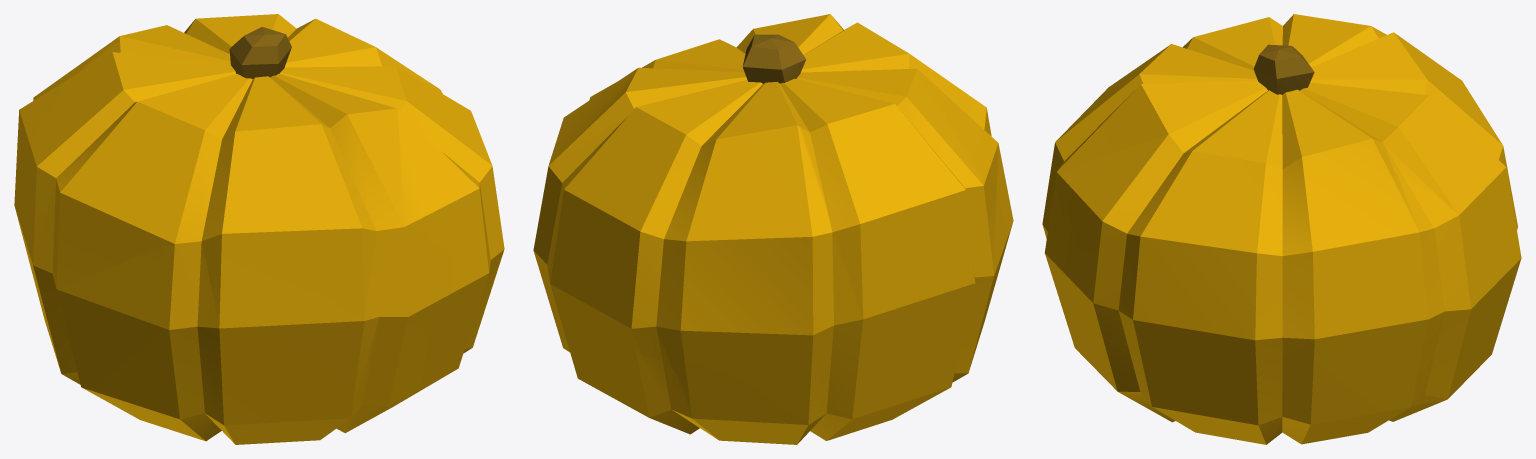
Rendered from ShatteredPumpkin_01.fbx.
The picture shows the model from 3 angles, left to right: view 1: azimuth 30°, elevation 25°; view 2: azimuth 150°, elevation 25°; view 3: azimuth 270°, elevation 25°; orthographic projection. The views are drawn at different scales.
Visible parts, largest first — view 1: shard5, shard8, shard9, shard2, shard4, shard7, shard10; view 2: shard4, shard5, shard8, shard3, shard9, shard2, shard10, shard7; view 3: shard9, shard4, shard5, shard7, shard3, shard10, shard8.
Boxes of the visible parts, <box> form: shard5: <box>18,42,430,325</box>; shard8: <box>14,183,422,444</box>; shard9: <box>327,24,504,409</box>; shard2: <box>15,136,426,345</box>; shard4: <box>20,14,346,325</box>; shard7: <box>277,49,398,114</box>; shard10: <box>229,26,291,78</box>; shard4: <box>561,71,881,418</box>; shard5: <box>758,14,998,255</box>; shard8: <box>856,165,1013,422</box>; shard3: <box>558,243,883,444</box>; shard9: <box>533,28,753,379</box>; shard2: <box>843,146,1002,300</box>; shard10: <box>742,34,806,83</box>; shard7: <box>665,28,760,72</box>; shard9: <box>1058,133,1475,444</box>; shard4: <box>1287,32,1521,285</box>; shard5: <box>1043,14,1386,289</box>; shard7: <box>1163,85,1303,148</box>; shard3: <box>1089,263,1512,421</box>; shard10: <box>1253,44,1314,94</box>; shard8: <box>1053,281,1089,362</box>.
Size of the model in its own units: 54.41 by 42.91 by 54.53.
